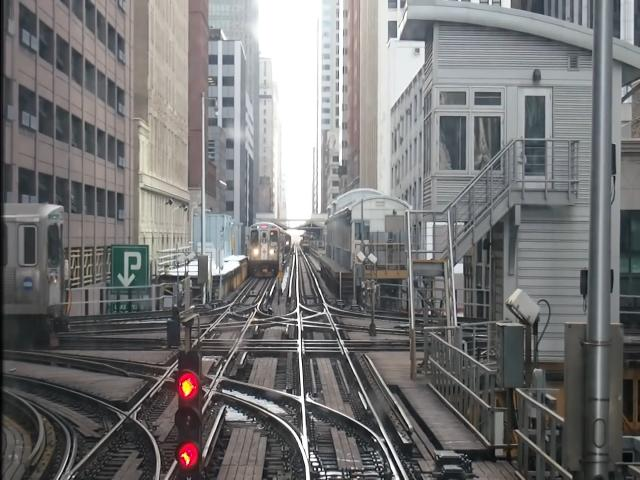signal light: (174, 348, 207, 480)
